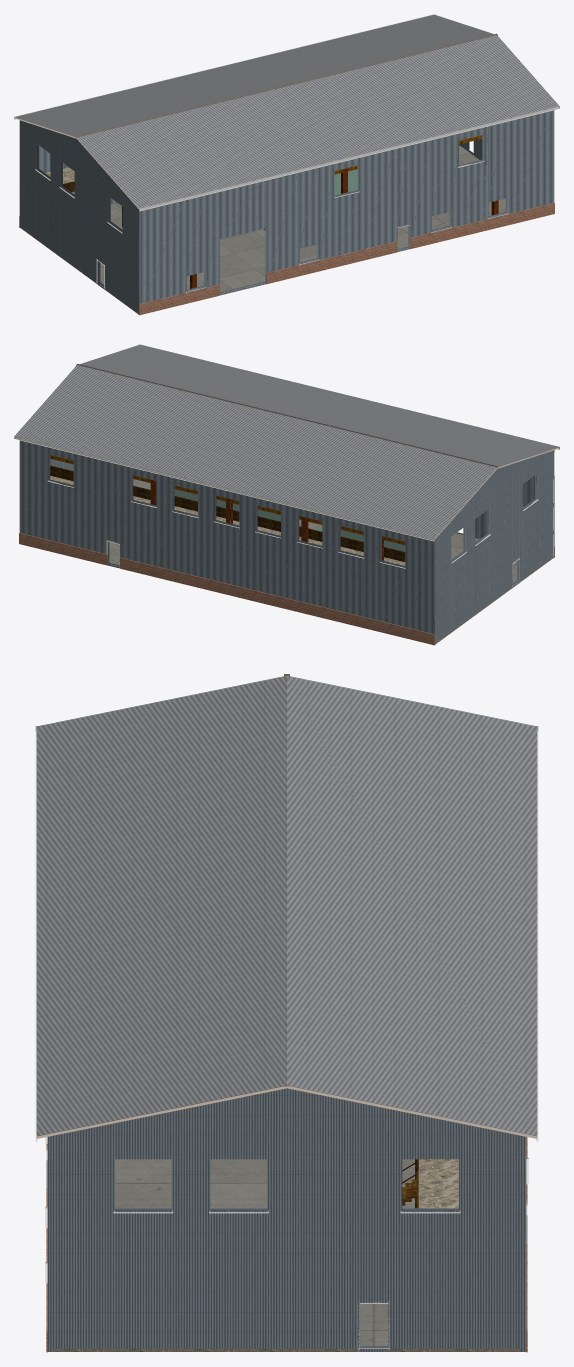
File: ew-turbine-hall.reveal-v1.lod0.glb
The picture shows the model from 3 angles, top to bottom: view 1: azimuth 30°, elevation 25°; view 2: azimuth 150°, elevation 25°; view 3: azimuth 270°, elevation 25°; orthographic projection. The views are drawn at different scales.
Visible parts, largest first — view 1: ew-turbine-hall; view 2: ew-turbine-hall; view 3: ew-turbine-hall.
Part boxes in pixels (<box>): ew-turbine-hall: <box>14,14,559,315</box>; ew-turbine-hall: <box>14,344,559,645</box>; ew-turbine-hall: <box>35,674,538,1352</box>.
Bounding box in the file's own units: 44.6 × 13.73 × 23.08.
6 materials, 5 textured.
